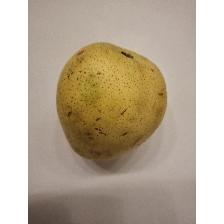Birne: (52, 38, 172, 164)
